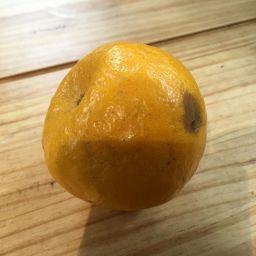Unripe: (43, 40, 207, 209)
